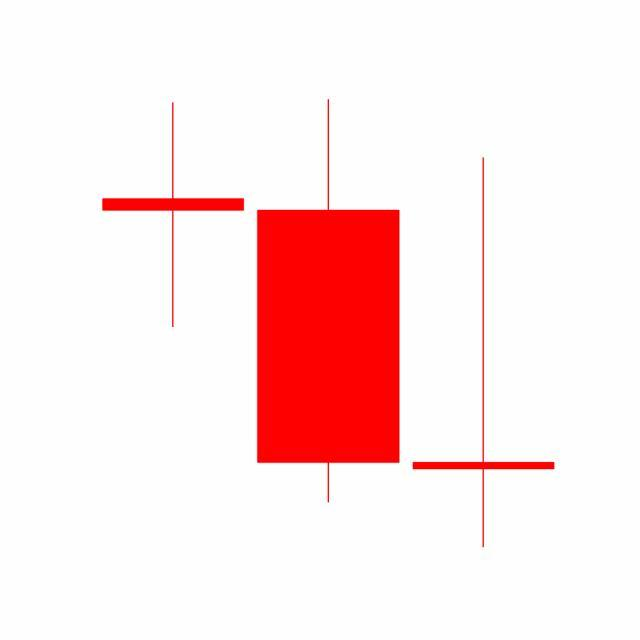Spinning Top: (406, 153, 562, 552)
